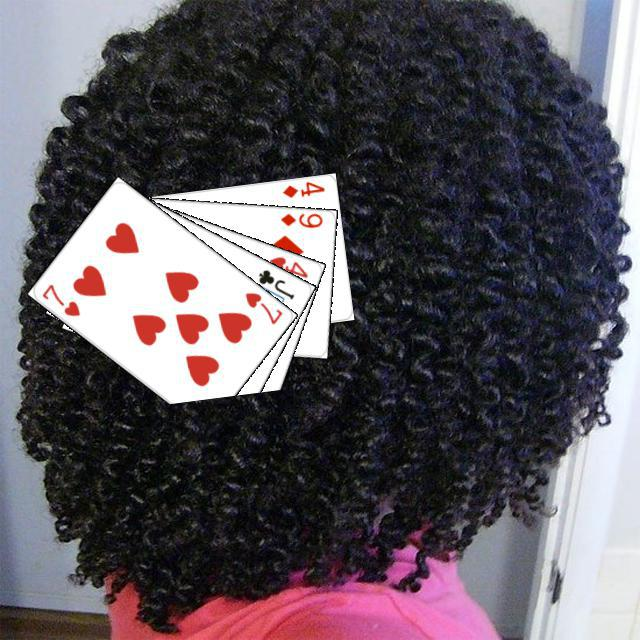4d: (278, 177, 326, 199)
4h: (264, 252, 309, 280)
7h: (37, 279, 82, 318), (240, 287, 284, 326)
9d: (276, 209, 324, 229)
Jc: (253, 265, 296, 301)
